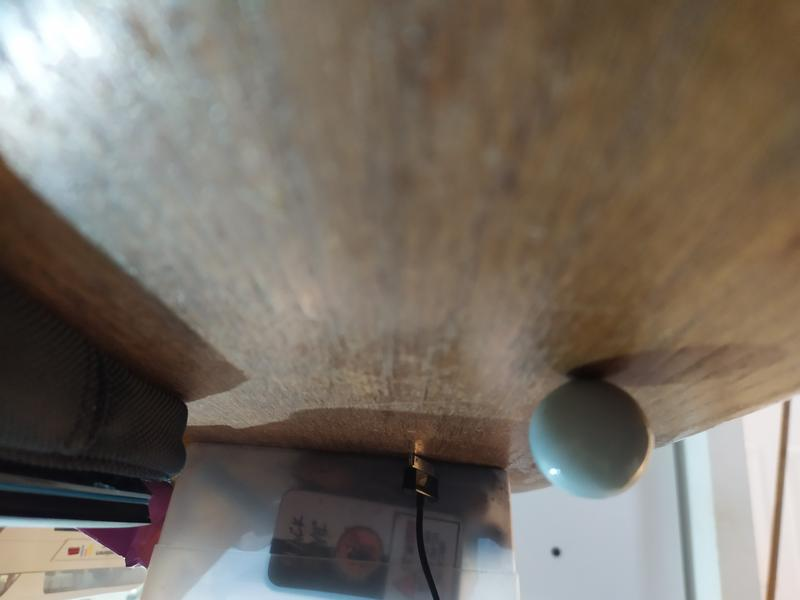Warning: (526, 376, 659, 504)
